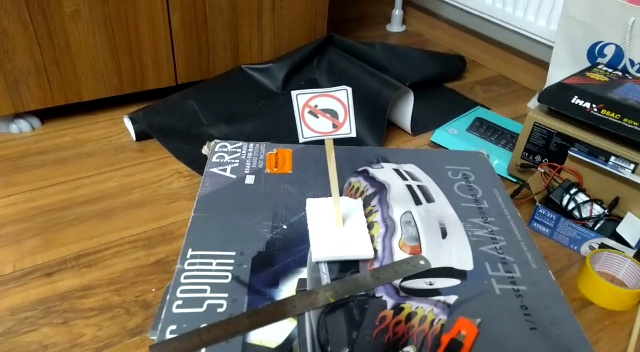sola_donulmez: (302, 90, 349, 135)
